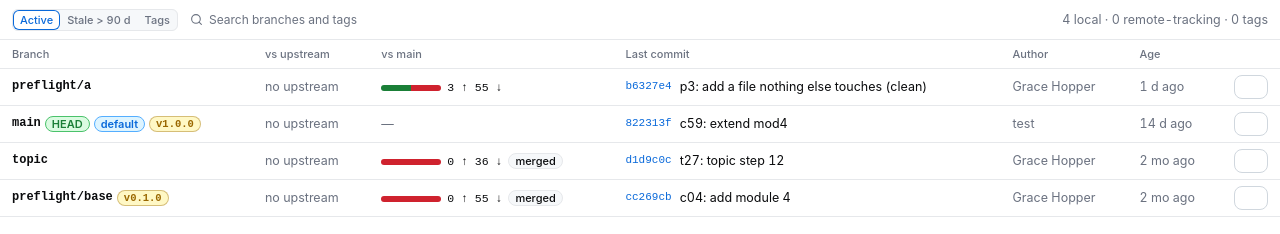
BranchesView tags table (Design §14.6) › says so when the repository has no tags that name a commit
Click the button "Tags": coordinates (157, 20) [138,10,177,30]
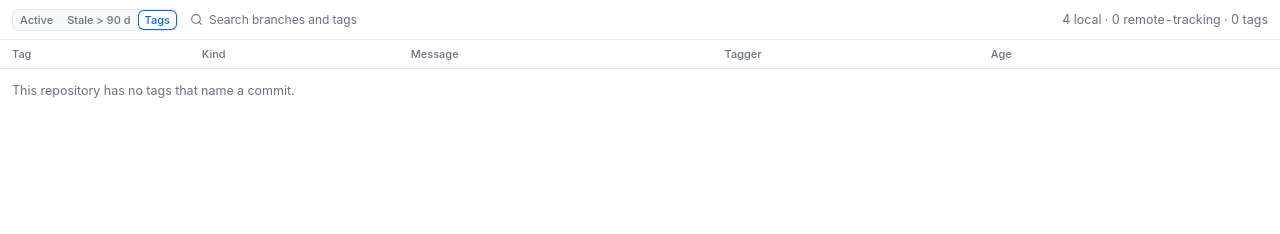
Result: the text "This repository has no tags that name a commit." is shown at [12,83,294,98]
